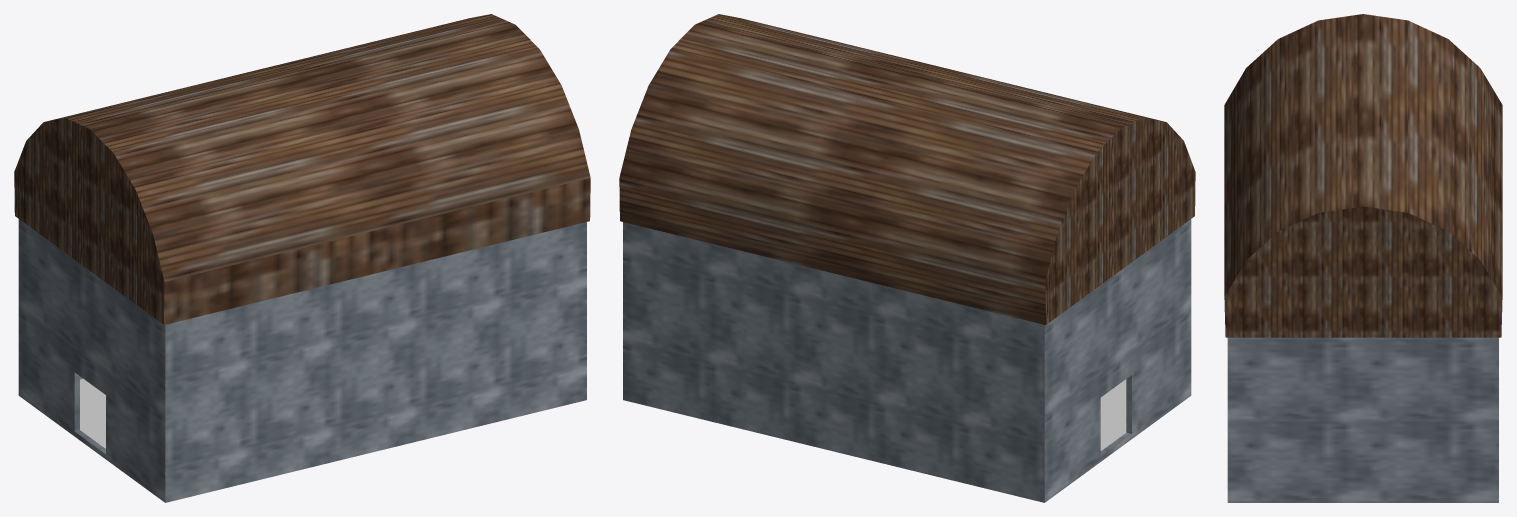
The model's file is Gym.fbx.
3 renders of one model, left to right at view 1: azimuth 30°, elevation 25°; view 2: azimuth 150°, elevation 25°; view 3: azimuth 270°, elevation 25°, orthographic. The views are drawn at different scales.
Visible parts, largest first — view 1: MeshBaker_MeshBaker_mesh_mesh; view 2: MeshBaker_MeshBaker_mesh_mesh; view 3: MeshBaker_MeshBaker_mesh_mesh.
Boxes of the visible parts, box(x1,y1,x2,y2) form: MeshBaker_MeshBaker_mesh_mesh: box(14, 14, 590, 502); MeshBaker_MeshBaker_mesh_mesh: box(619, 14, 1195, 502); MeshBaker_MeshBaker_mesh_mesh: box(1224, 14, 1502, 502).
Bounding box in the file's own units: 2836 × 2043 × 1732.
